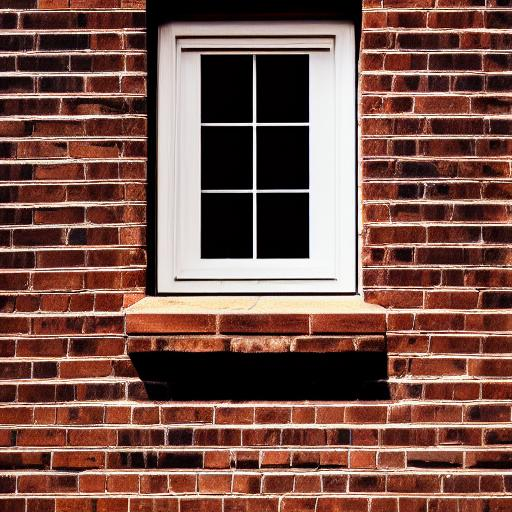Window: (127, 0, 390, 360)
